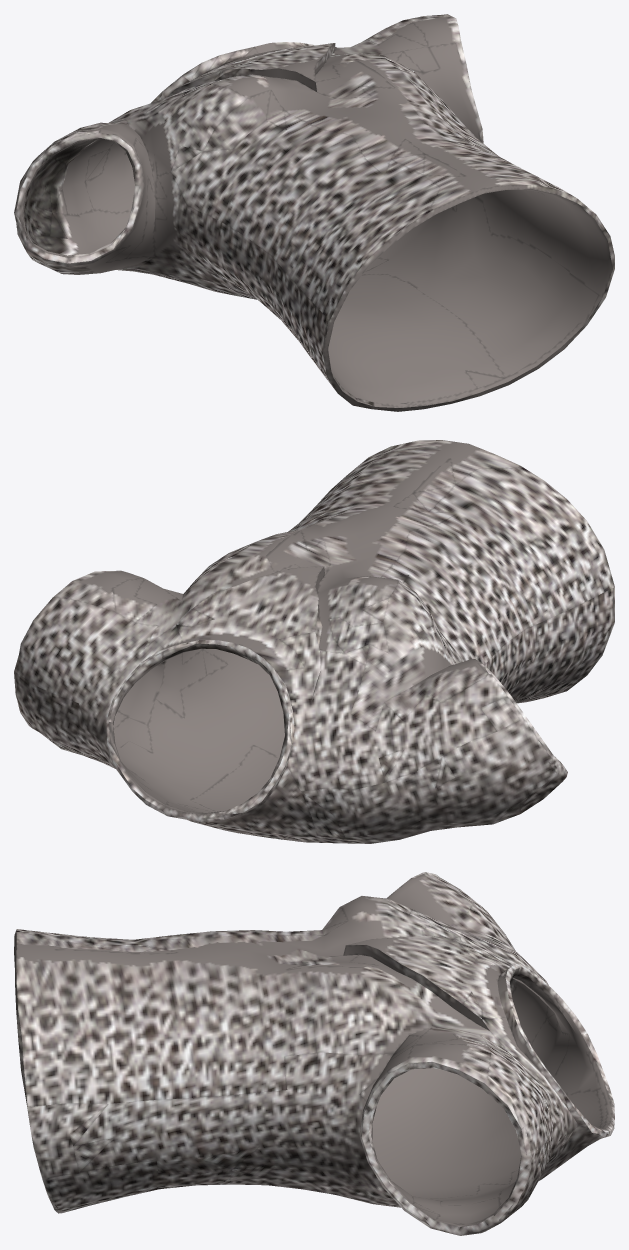
Rendered from item_mm9_10100.glb.
3 renders of one model, top to bottom at view 1: azimuth 30°, elevation 25°; view 2: azimuth 150°, elevation 25°; view 3: azimuth 270°, elevation 25°, orthographic. The views are drawn at different scales.
Visible parts, largest first — view 1: d10100; view 2: d10100; view 3: d10100.
Part boxes in pixels (<box>): d10100: <box>14,14,614,411</box>; d10100: <box>14,440,614,843</box>; d10100: <box>14,872,614,1235</box>.
Size of the model in its own units: 0.9996 by 0.4666 by 1.02.
Materials: 1 (1 with a texture image).
